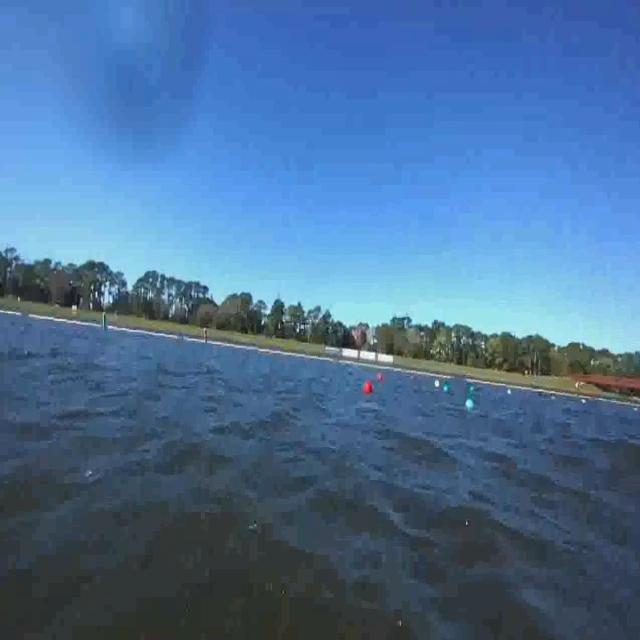green-buoy: (465, 396, 475, 414), (468, 381, 478, 394), (443, 386, 450, 394)
red-buoy: (362, 381, 373, 396), (376, 372, 384, 382)
yellow-buoy: (434, 377, 440, 390)
